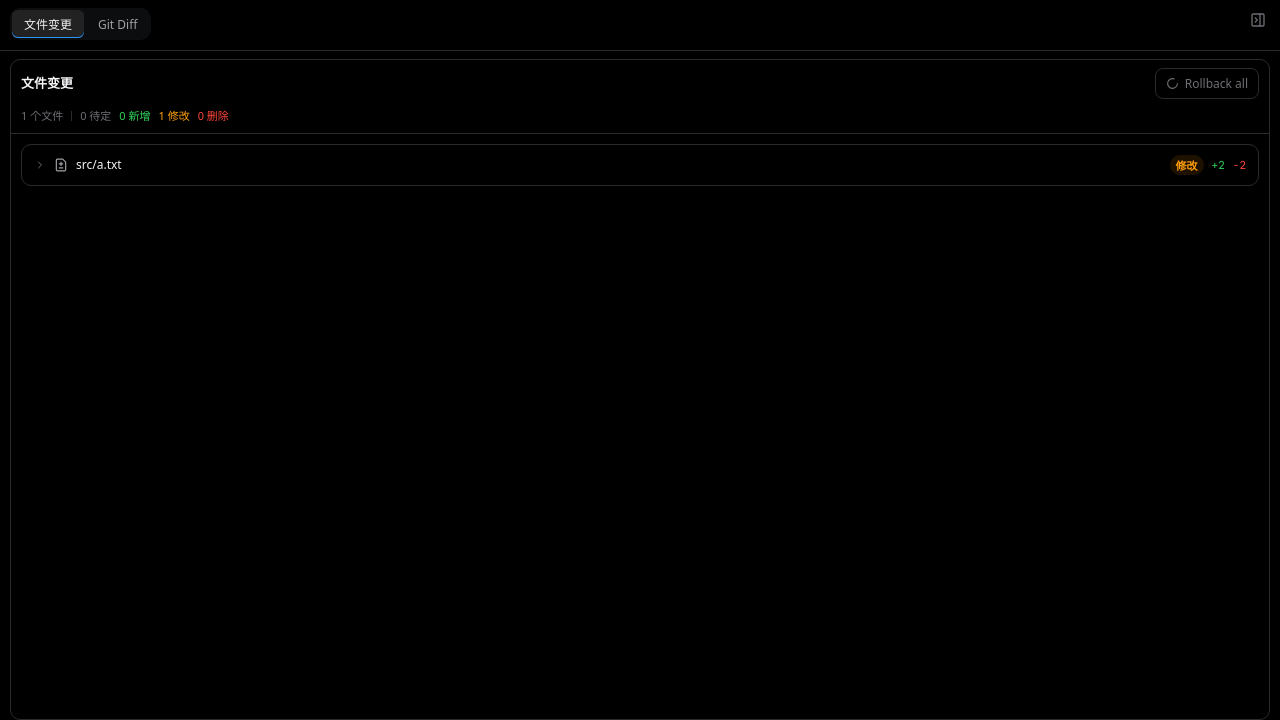
FileChangePanel › disables accept and restore actions while checkpoint restore is in progress
Step 1. Click the text "src/a.txt" → (99, 165), box [76,156,122,173]
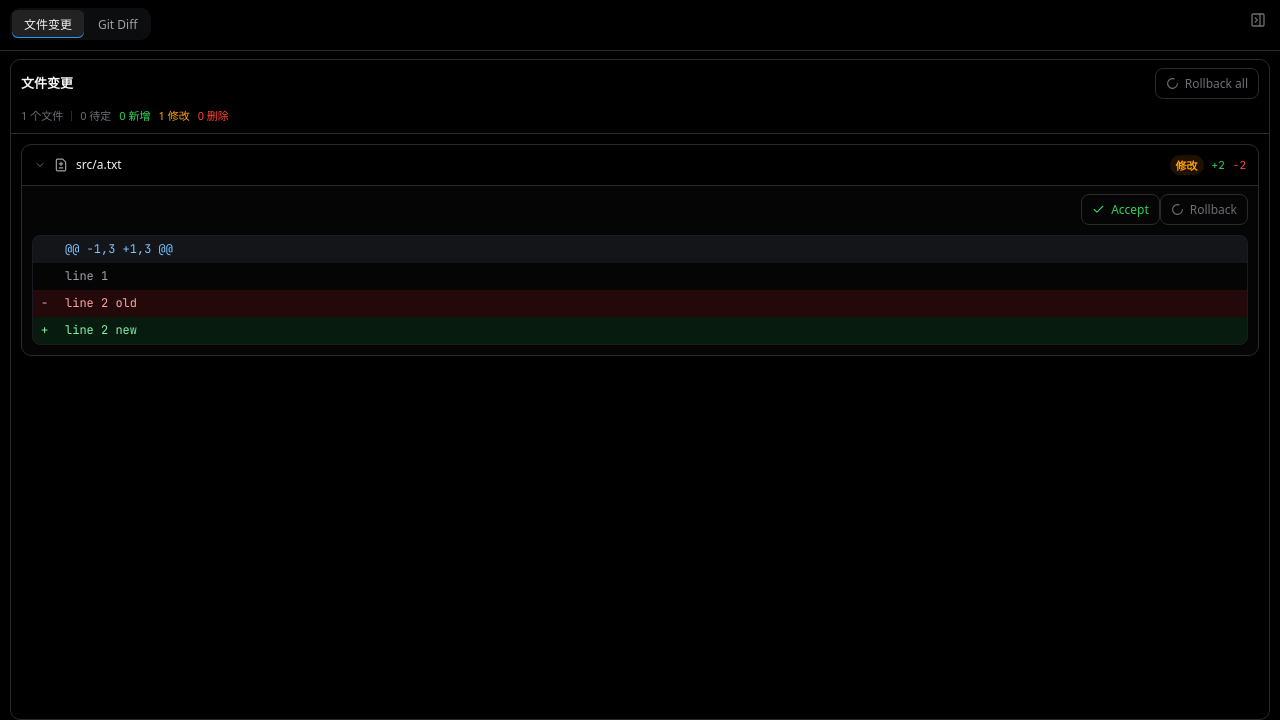
Result: the button with test id "accept-change-fc-1" is disabled at [1081,194,1160,225]
Result: the button with test id "restore-change-fc-1" is disabled at [1160,194,1248,225]
